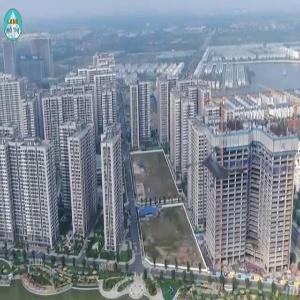drone: (192, 133, 259, 200)
